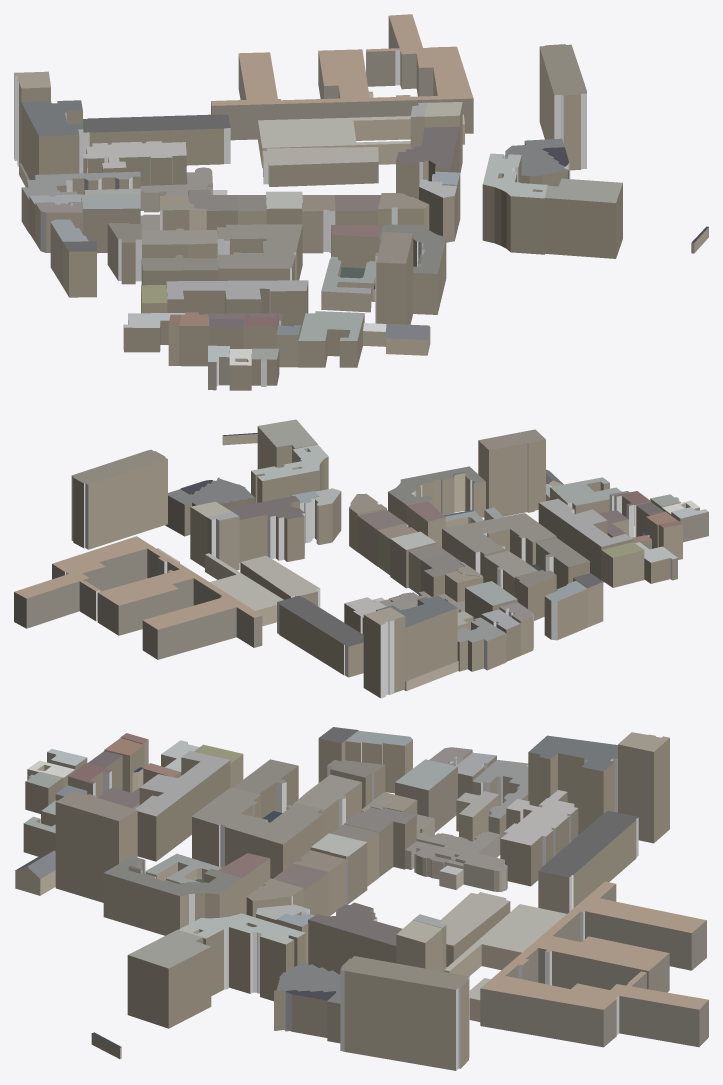
3 views of the same model, one above another, from view 1: azimuth 30°, elevation 25°; view 2: azimuth 150°, elevation 25°; view 3: azimuth 270°, elevation 25° (orthographic). The views are drawn at different scales.
Parts seen in each view (by area): view 1: tuile; view 2: tuile; view 3: tuile.
Boxes of the visible parts, bbox=[...] form: tuile: bbox=[14, 14, 708, 390]; tuile: bbox=[14, 419, 708, 698]; tuile: bbox=[15, 727, 708, 1070].
Size of the model in its own units: 274 by 41.38 by 266.
